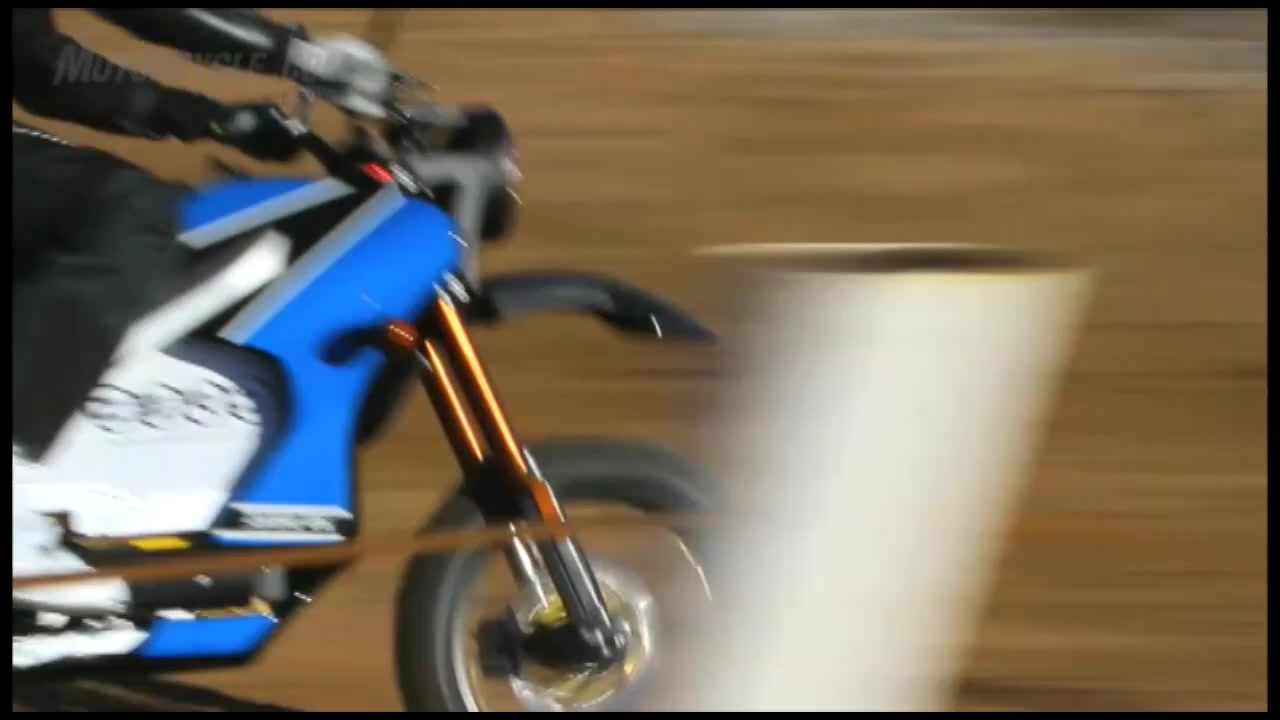motorbike: (4, 87, 726, 717)
